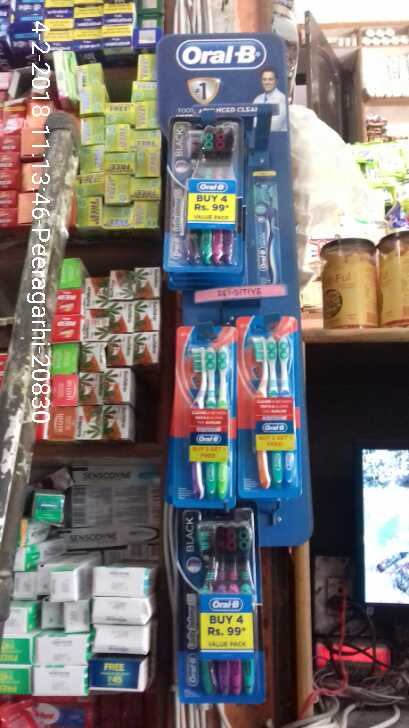oralb: (190, 516, 268, 703), (177, 120, 241, 274), (176, 338, 230, 503), (246, 330, 296, 491)
